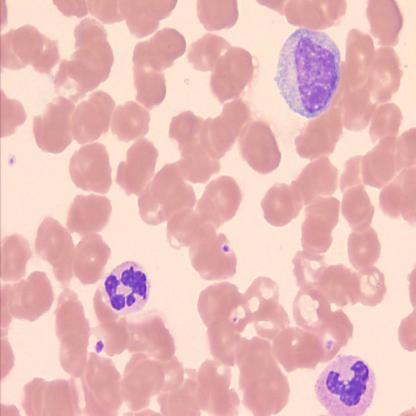Myelocyte: (272, 26, 342, 119), (318, 352, 375, 416), (103, 260, 150, 312)
